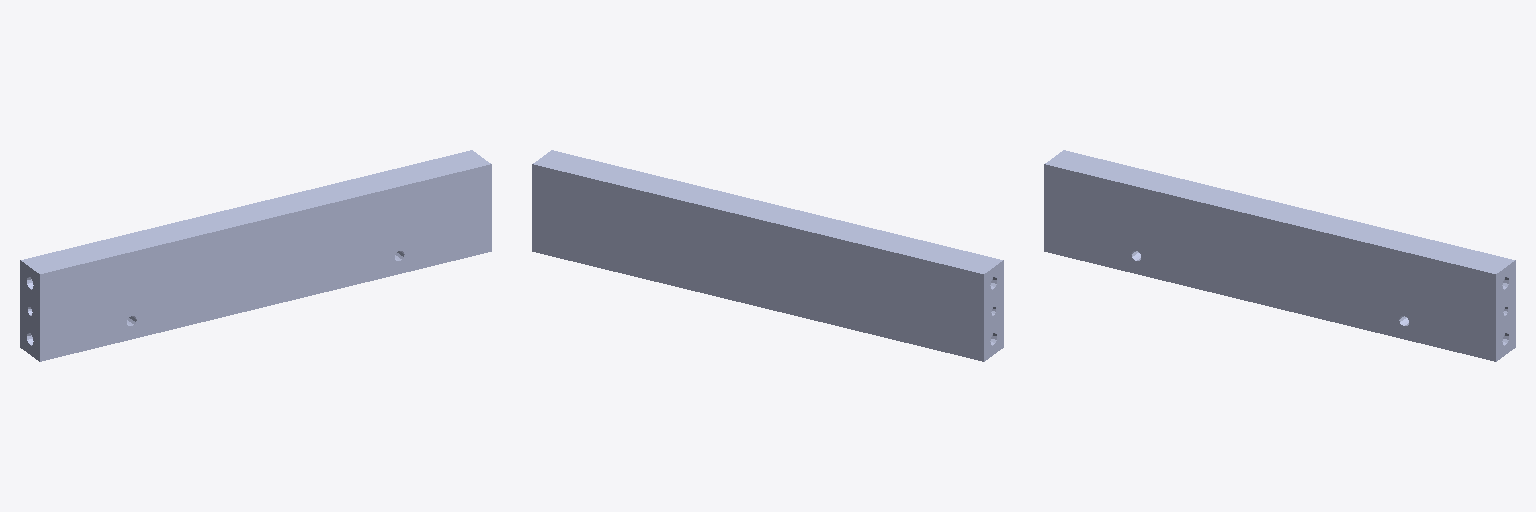
robot.urdf — part3:
<?xml version="1.0" encoding="utf-8"?>
<!-- This URDF was automatically created by SolidWorks to URDF Exporter! Originally created by [author] ([email redacted]) 
     Commit Version: 1.5.1-0-g916b5db  Build Version: 1.5.7152.31018
     For more information, please see http://wiki.ros.org/sw_urdf_exporter -->
<robot
  name="part3">
  <link name="part3">
    <inertial>
      <origin
        xyz="-3.1985E-18 -0.0099903 4.02510000000006E-05"
        rpy="0 0 0" />
      <mass
        value="0.26482" />
      <inertia
        ixx="6.4143E-05"
        ixy="1.635E-20"
        ixz="9.5153000000001E-23"
        iyy="0.0016227"
        iyz="-3.74120000000028E-08"
        izz="0.0015765" />
    </inertial>
    <visual>
      <origin
        xyz="0 0 0"
        rpy="1.5707963267949 0 0" />
      <geometry>
        <mesh
          filename="package://cai_env/meshes/part3.STL" />
      </geometry>
      <material
        name="">
        <color
          rgba="0.79216 0.81961 0.93333 1" />
        <texture
          filename="package://cai_env/textures/" />
      </material>
    </visual>
    <collision>
      <origin
        xyz="0 0 0"
        rpy="1.5707963267949 0 0" />
      <geometry>
        <mesh
          filename="package://cai_env/meshes/part3.STL" />
      </geometry>
    </collision>
  </link>

  <gazebo reference="part3">
    <material>Gazebo/BlackTransparent</material>
  </gazebo>
  
</robot>

--- Render facts (derived) ---
Views: 3 orthographic renders of the robot side by side, from view 1: azimuth 30°, elevation 25°; view 2: azimuth 150°, elevation 25°; view 3: azimuth 330°, elevation 25°.
Model part3 with 1 links and 0 joints (none), rooted at part3, posed every joint at zero.
Links seen in each view (by area): view 1: part3; view 2: part3; view 3: part3.
Boxes of the visible links, <box> form: part3: <box>20,150,491,361</box>; part3: <box>532,150,1003,361</box>; part3: <box>1044,150,1515,361</box>.
Size in the robot's own frame: 0.27 by 0.02 by 0.05 metres.
Meshes: 1 distinct files referenced, 1 mesh visuals loaded (1 binary STL).
